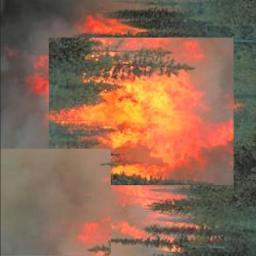Heavy smoke: (0, 148, 112, 255)
Large fire: (53, 39, 232, 188)
